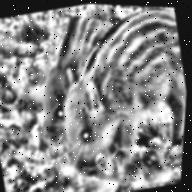boar: (37, 2, 192, 189), (21, 26, 87, 145)
